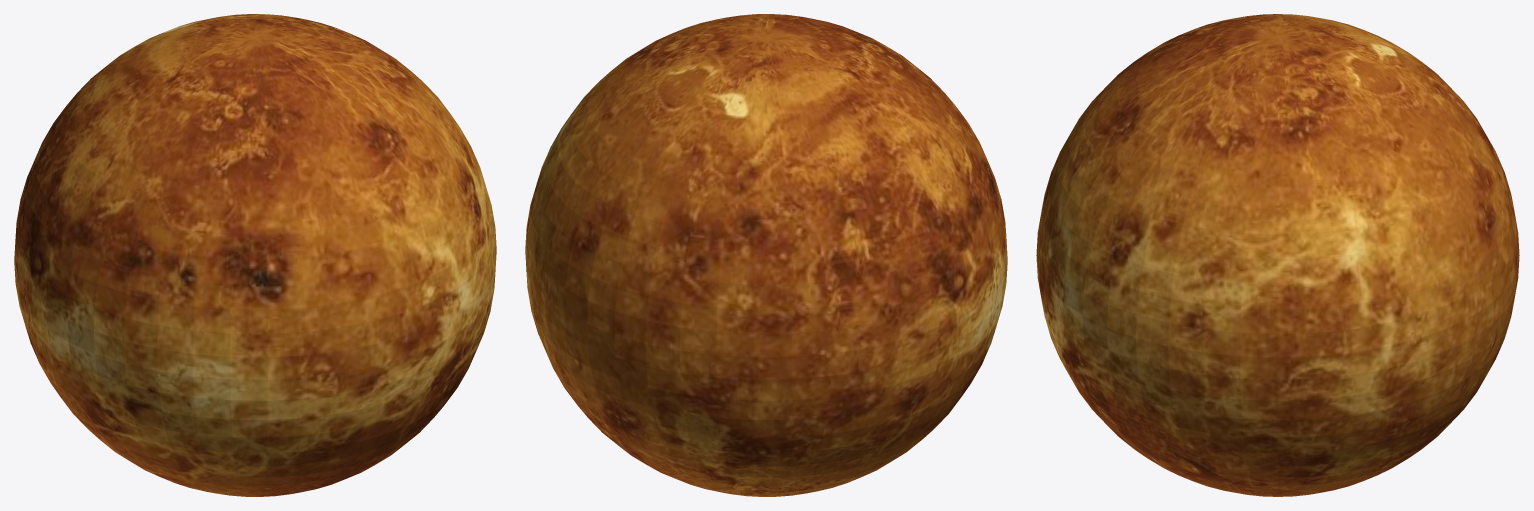
Rendered from Venus.glb.
3 renders of one model, left to right at view 1: azimuth 30°, elevation 25°; view 2: azimuth 150°, elevation 25°; view 3: azimuth 270°, elevation 25°, orthographic.
Visible parts, largest first — view 1: Sphere_009; view 2: Sphere_009; view 3: Sphere_009.
Part boxes in pixels (<box>): Sphere_009: <box>14,14,496,496</box>; Sphere_009: <box>525,14,1007,496</box>; Sphere_009: <box>1036,14,1519,496</box>.
Size of the model in its own units: 2.37 by 2.35 by 2.37.
1 material, 1 textured.
